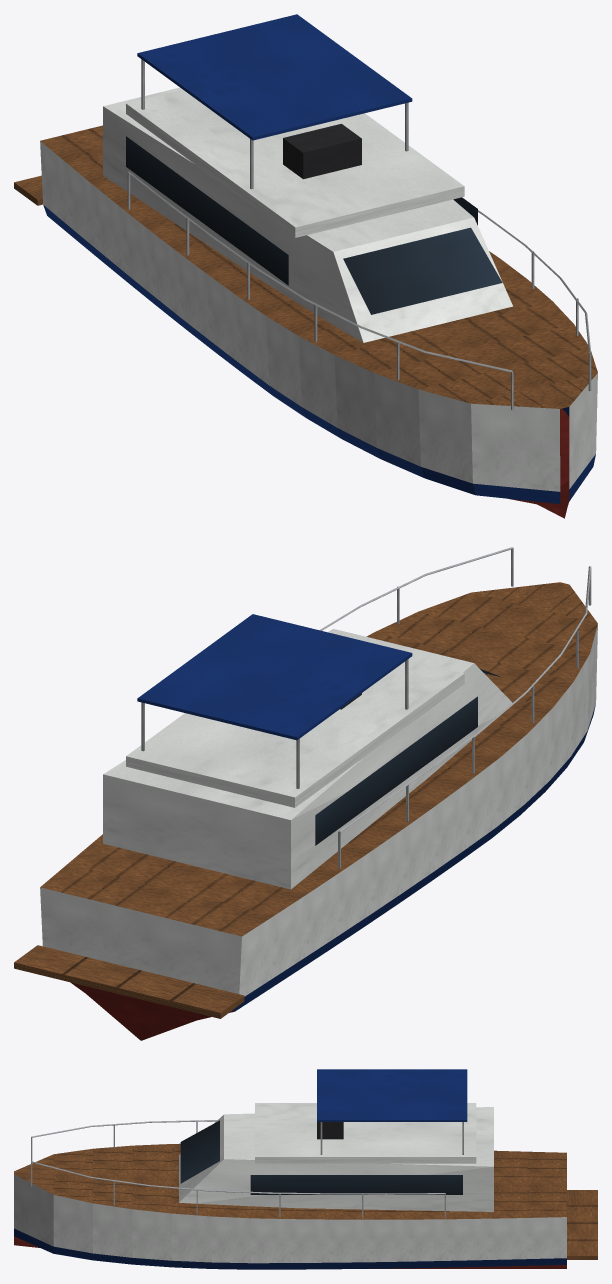
The model's file is SM_Mirabello_YachtA.fbx.
The picture shows the model from 3 angles, top to bottom: view 1: azimuth 30°, elevation 25°; view 2: azimuth 150°, elevation 25°; view 3: azimuth 270°, elevation 25°; orthographic projection. The views are drawn at different scales.
Parts seen in each view (by area): view 1: SM_Mirabello_YachtA; view 2: SM_Mirabello_YachtA; view 3: SM_Mirabello_YachtA.
Part boxes in pixels (left/top/right/bottom): SM_Mirabello_YachtA: left=14, top=14, right=597, bottom=518; SM_Mirabello_YachtA: left=14, top=547, right=597, bottom=1040; SM_Mirabello_YachtA: left=14, top=1069, right=597, bottom=1269.
Bounding box in the file's own units: 400 × 1320 × 435.
Materials: 1 (1 with a texture image).
